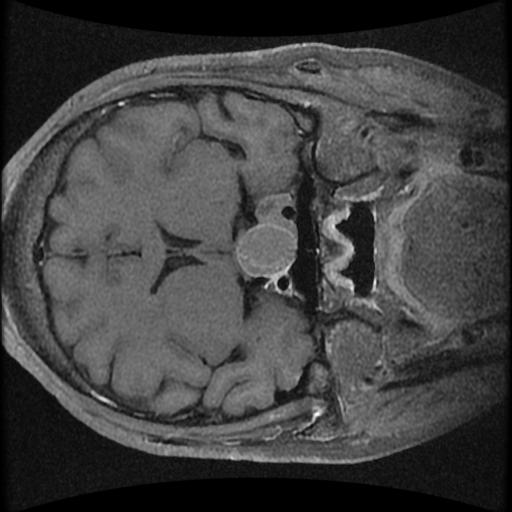pituitary tumour: (236, 195, 297, 279)
